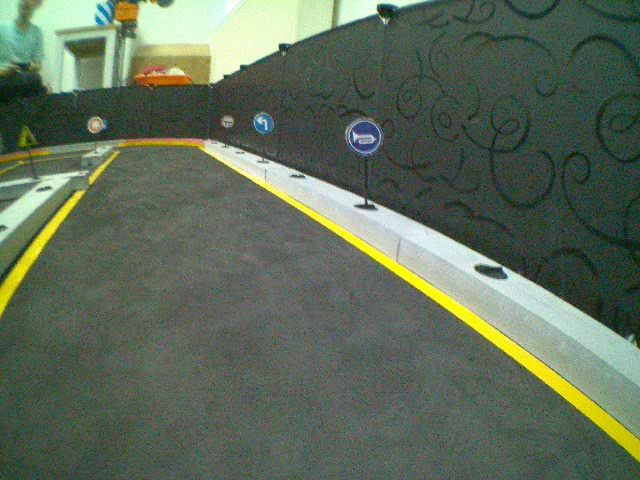Check: (220, 113, 235, 129)
Stop: (87, 115, 103, 133)
fast: (15, 123, 39, 149)
horn: (345, 116, 382, 156)
turn: (253, 111, 275, 134)
